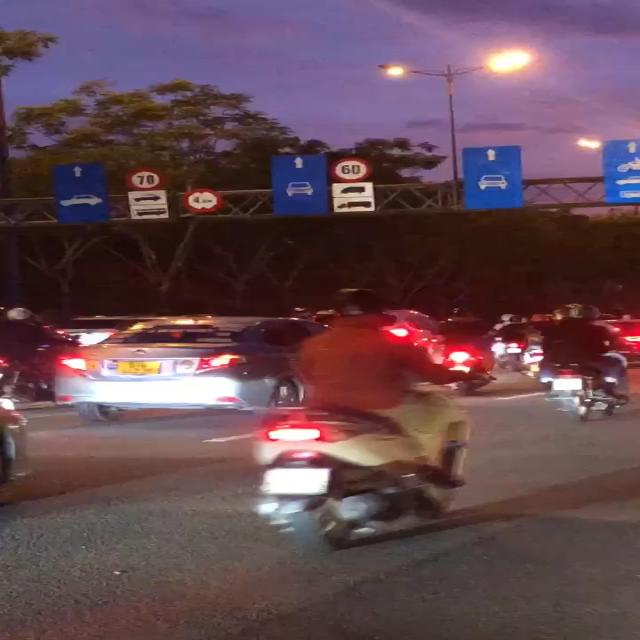Bien bao toc do toi da cho phep: (326, 157, 374, 183), (120, 166, 164, 189)
